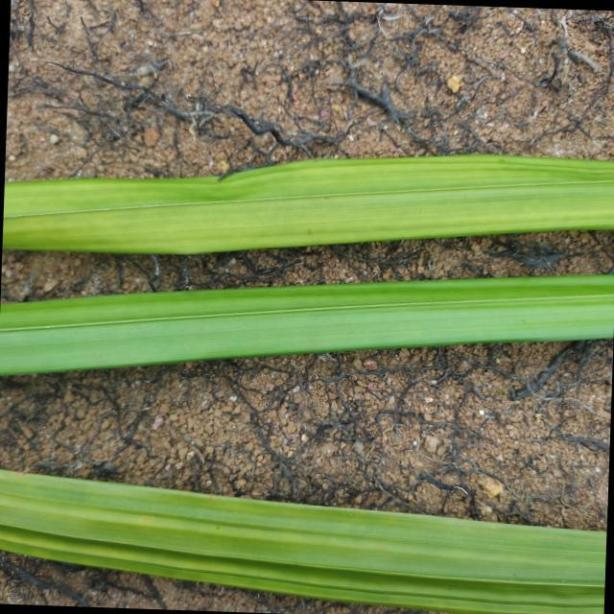nitrogen: (1, 462, 614, 614), (0, 270, 614, 376), (0, 158, 614, 256)
